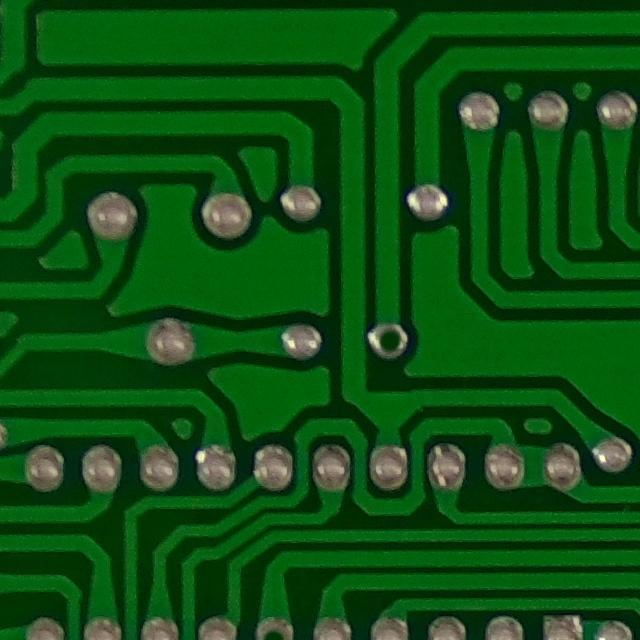missing_hole: (363, 314, 414, 362)
